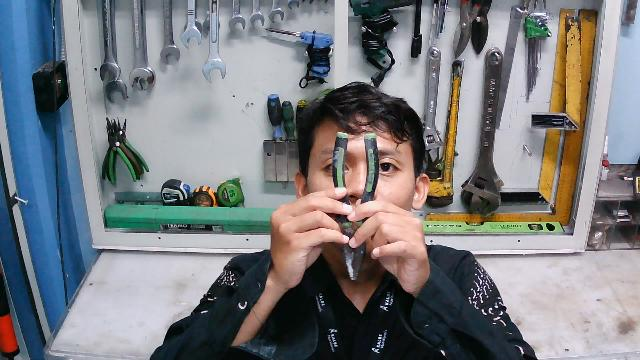tang_kombinasi: (329, 131, 385, 282)
